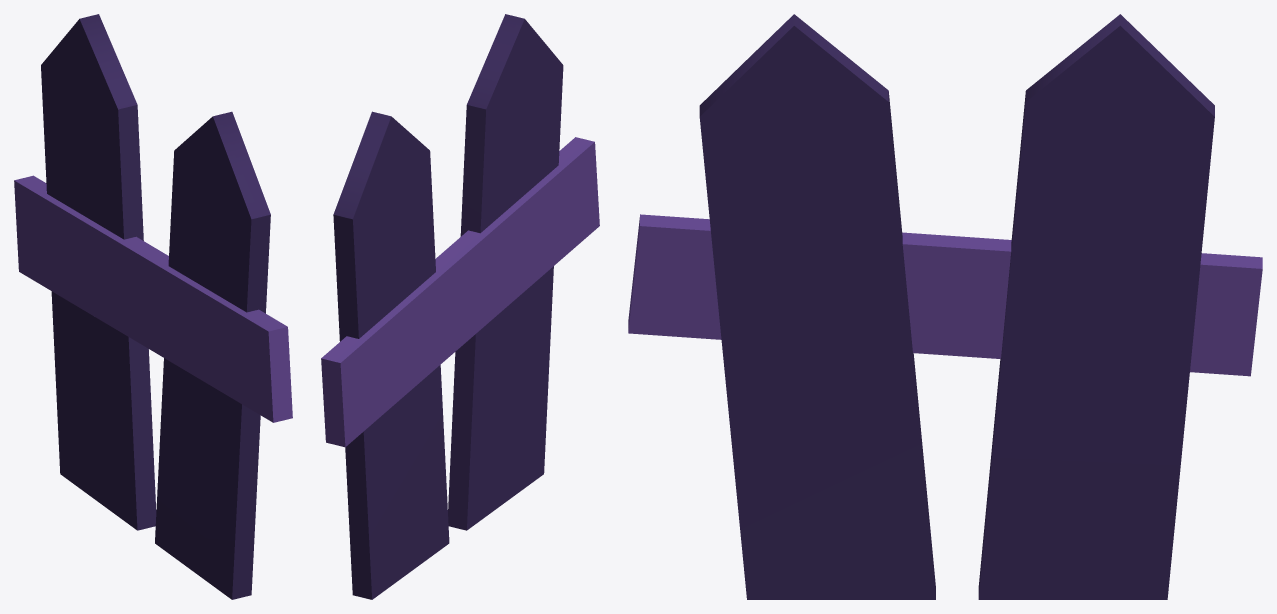
File: VallaAzul.FBX
3 renders of one model, left to right at view 1: azimuth 30°, elevation 25°; view 2: azimuth 150°, elevation 25°; view 3: azimuth 270°, elevation 25°, orthographic. The views are drawn at different scales.
Visible parts, largest first — view 1: VallaAzul; view 2: VallaAzul; view 3: VallaAzul.
Boxes of the visible parts, left/top/right/bottom form: VallaAzul: left=14, top=14, right=292, bottom=599; VallaAzul: left=321, top=14, right=599, bottom=599; VallaAzul: left=628, top=14, right=1262, bottom=599.
Bounding box in the file's own units: 2.28 × 38.35 × 38.4.
